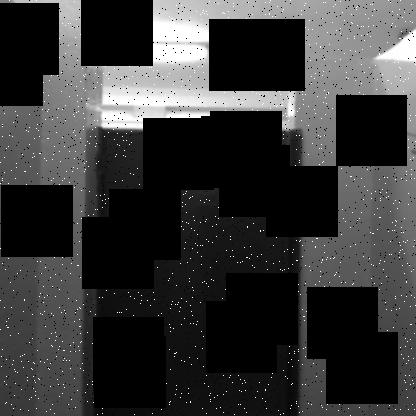Porte: (95, 128, 306, 416)
